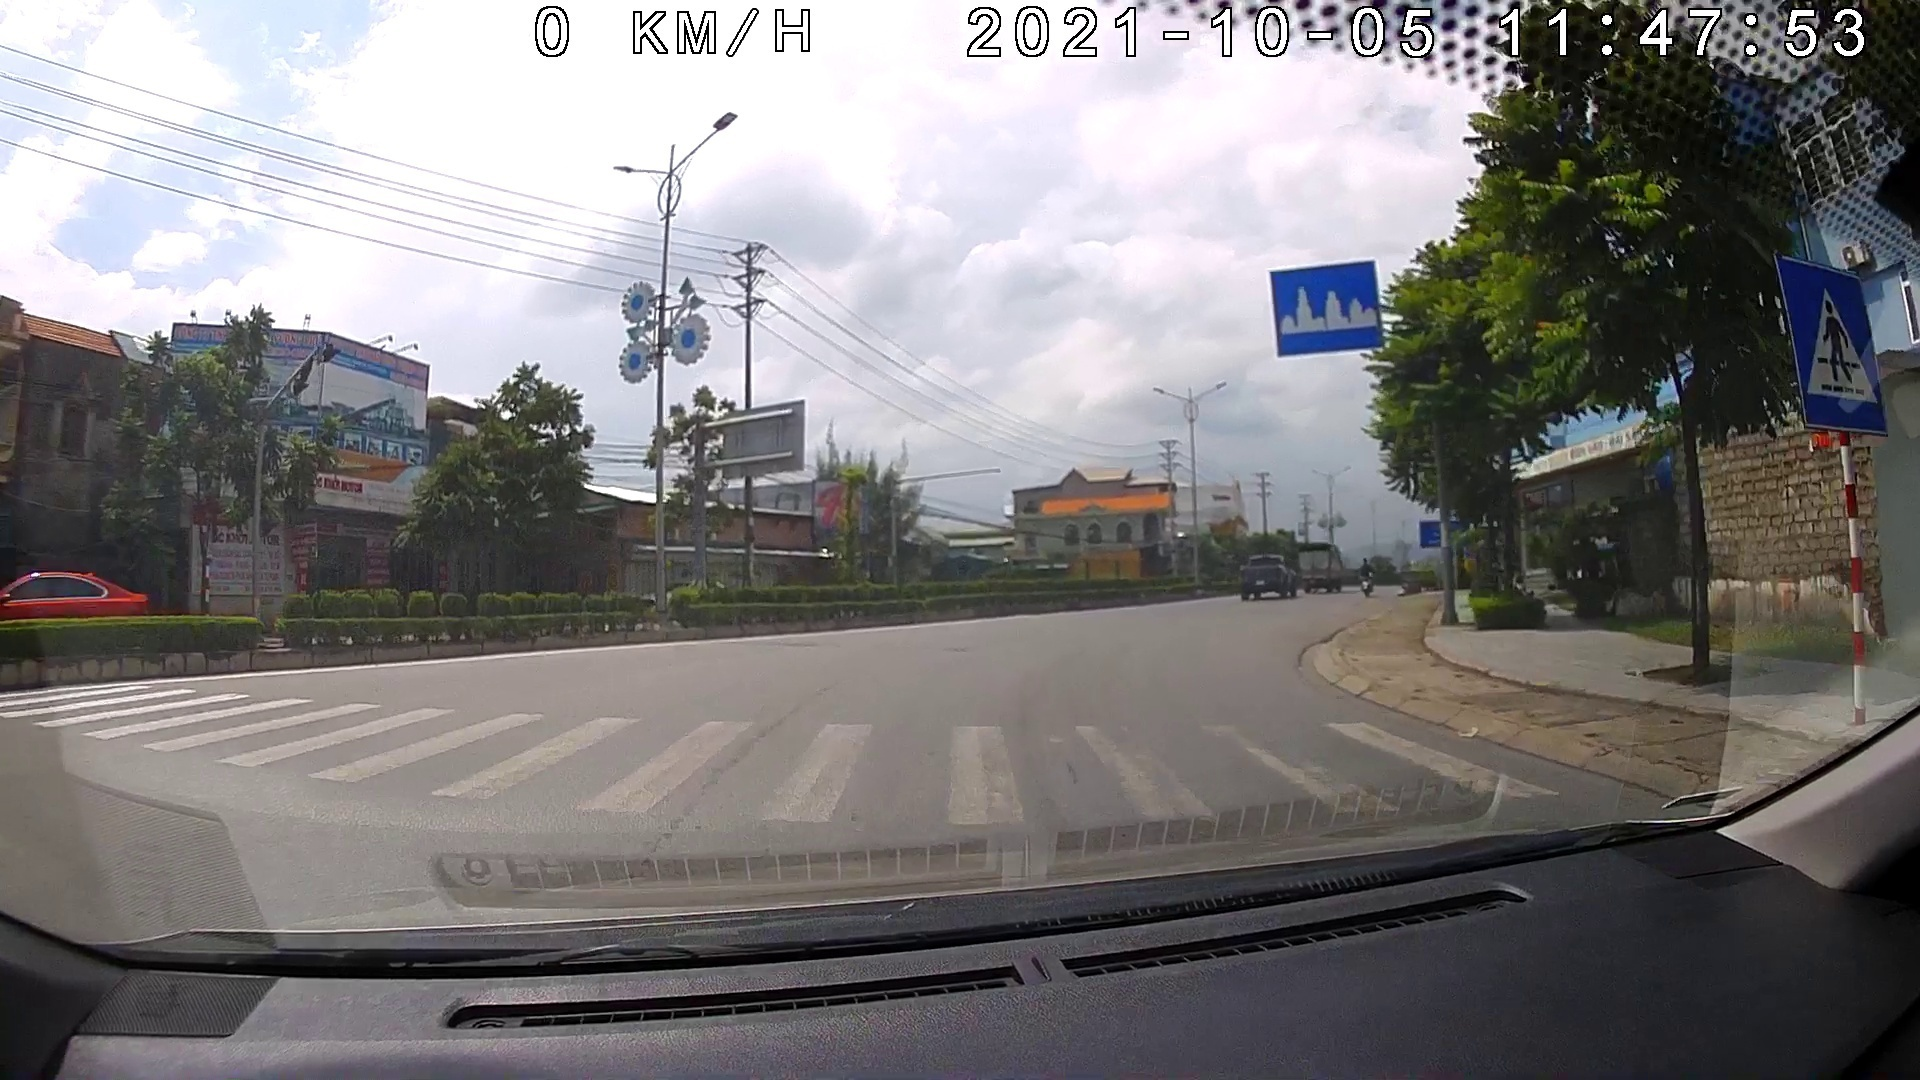Bien khac: (1269, 258, 1389, 360)
Nguoi di bo: (1774, 251, 1892, 440)
